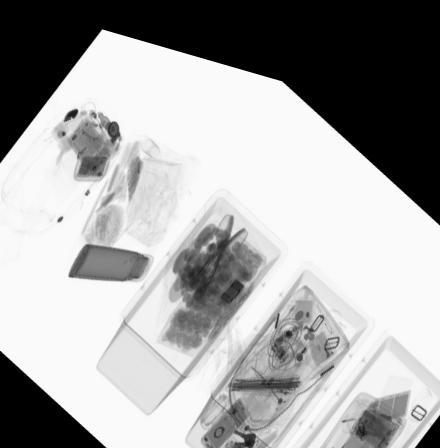Powerbank: (370, 364, 412, 402), (211, 417, 253, 448), (72, 143, 109, 176)
